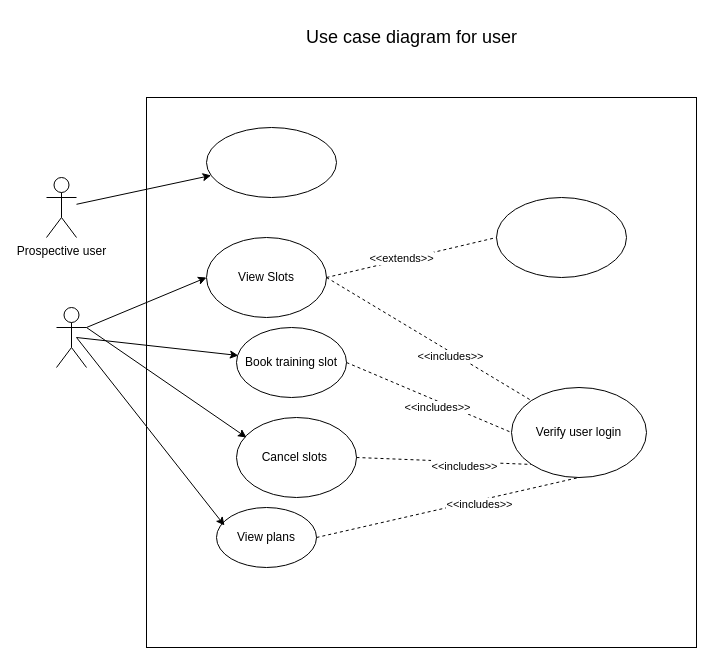
This 714x665 diagram has some shape labels left out. Here are the shapes that lost their labels. From the top down, the box of each, then its label:
(206, 126, 336, 198): Register your profile
(496, 196, 626, 278): View by gym
(56, 306, 86, 368): User
